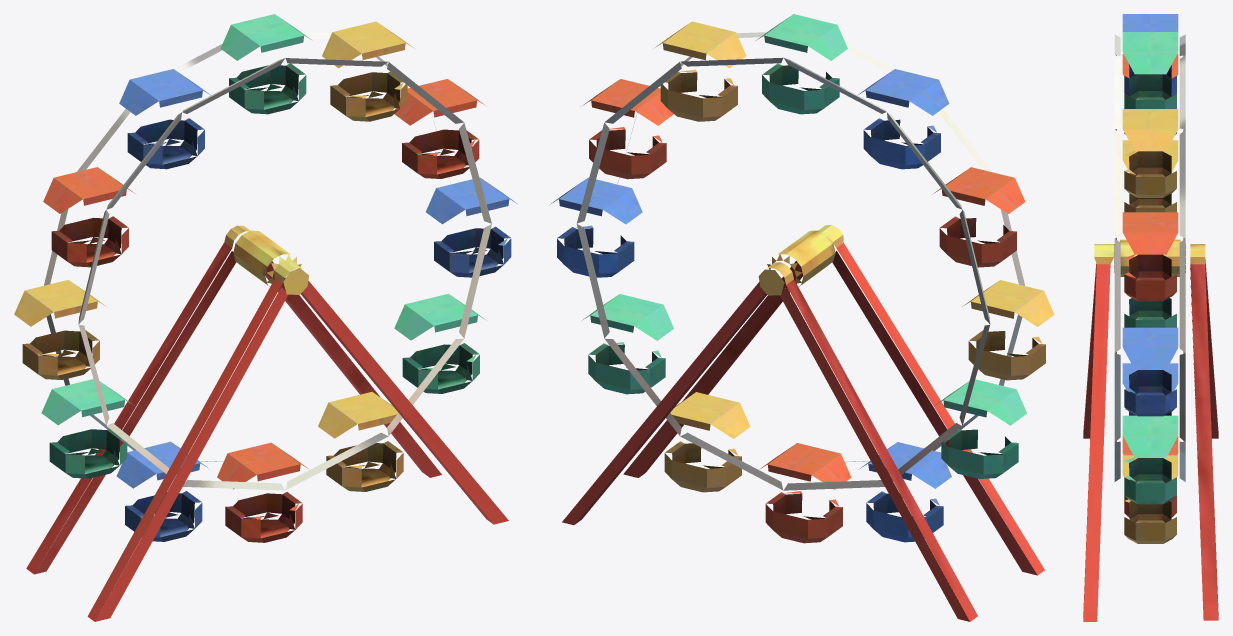
The model's file is ferris.glb.
3 renders of one model, left to right at view 1: azimuth 30°, elevation 25°; view 2: azimuth 150°, elevation 25°; view 3: azimuth 270°, elevation 25°, orthographic. The views are drawn at different scales.
Visible parts, largest first — view 1: ferris_wheel; view 2: ferris_wheel; view 3: ferris_wheel.
Boxes of the visible parts, <box> form: ferris_wheel: <box>14,14,517,621</box>; ferris_wheel: <box>550,14,1054,621</box>; ferris_wheel: <box>1083,14,1218,621</box>.
Bounding box in the file's own units: 25.84 × 26 × 6.57.
Materials: 1 (1 with a texture image).
